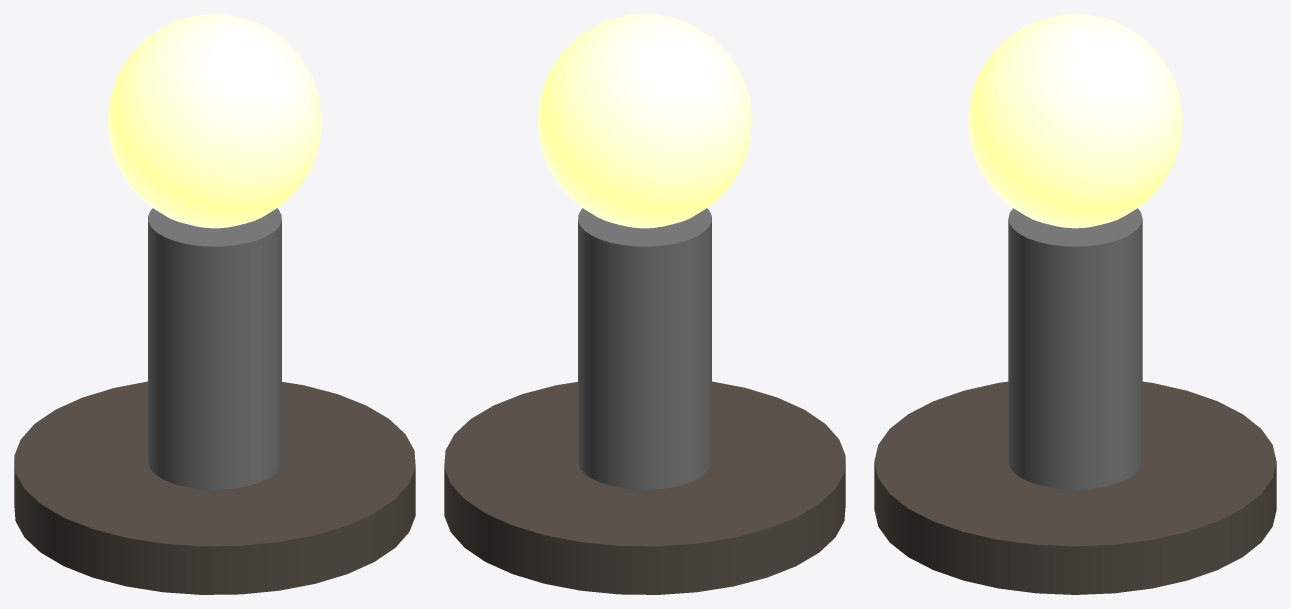
The model's file is simplebeacon-c7a45a70e3a9.glb.
The picture shows the model from 3 angles, left to right: view 1: azimuth 30°, elevation 25°; view 2: azimuth 150°, elevation 25°; view 3: azimuth 270°, elevation 25°; orthographic projection.
Parts seen in each view (by area): view 1: cylinder_1, sphere_3, cylinder_2; view 2: cylinder_1, sphere_3, cylinder_2; view 3: cylinder_1, sphere_3, cylinder_2.
Boxes of the visible parts, x1,y1,x2,y2 form: cylinder_1: (14, 381, 415, 594); sphere_3: (108, 14, 321, 228); cylinder_2: (148, 208, 281, 489); cylinder_1: (444, 381, 845, 594); sphere_3: (538, 14, 751, 228); cylinder_2: (578, 208, 711, 489); cylinder_1: (874, 381, 1276, 594); sphere_3: (968, 14, 1182, 228); cylinder_2: (1008, 208, 1142, 489).
Size of the model in its own units: 1.5 by 2 by 1.5.
